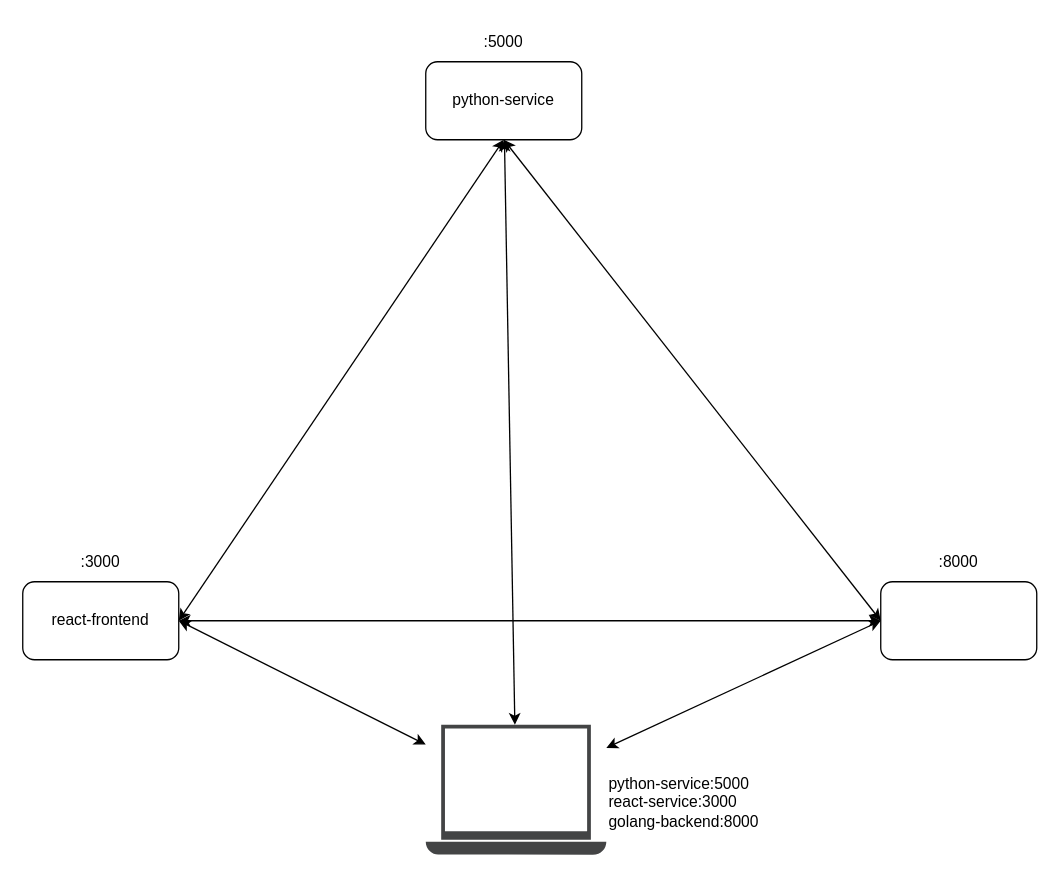
Image size: 1060x876. Some labels were removed from this diagram. The centre of each missing label's shape, as x and y in pixels:
"golang-backend" goes at [958,620].
"me" goes at [515,789].
